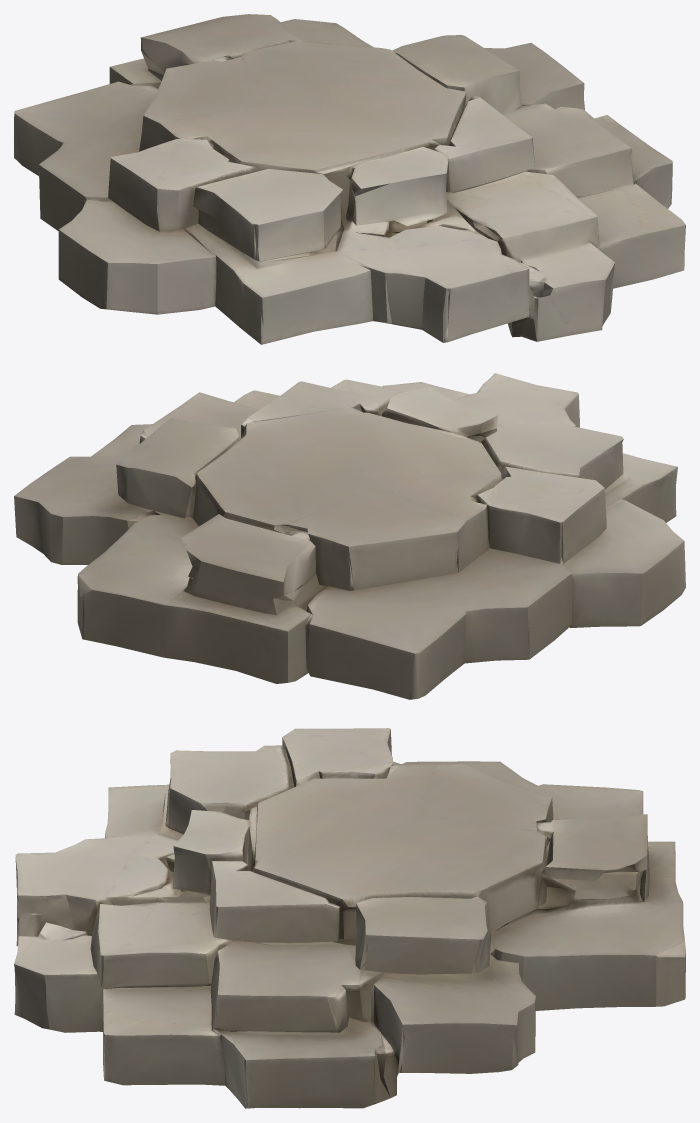
File: m2CrackedHexPlatform.glb
3 views of the same model, one above another, from view 1: azimuth 30°, elevation 25°; view 2: azimuth 150°, elevation 25°; view 3: azimuth 270°, elevation 25° (orthographic). The views are drawn at different scales.
Visible parts, largest first — view 1: model; view 2: model; view 3: model.
Boxes of the visible parts, <box> form: model: <box>14,14,685,344</box>; model: <box>14,373,685,699</box>; model: <box>14,728,685,1108</box>.
Bounding box in the file's own units: 1.9 × 0.4139 × 1.87.
Materials: 1 (1 with a texture image).
